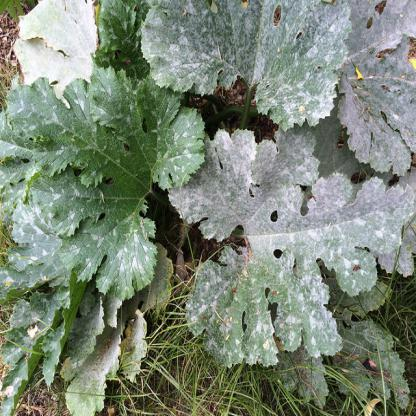squash powdery mildew leaf: (166, 127, 415, 367), (1, 61, 216, 297), (133, 1, 350, 128)
